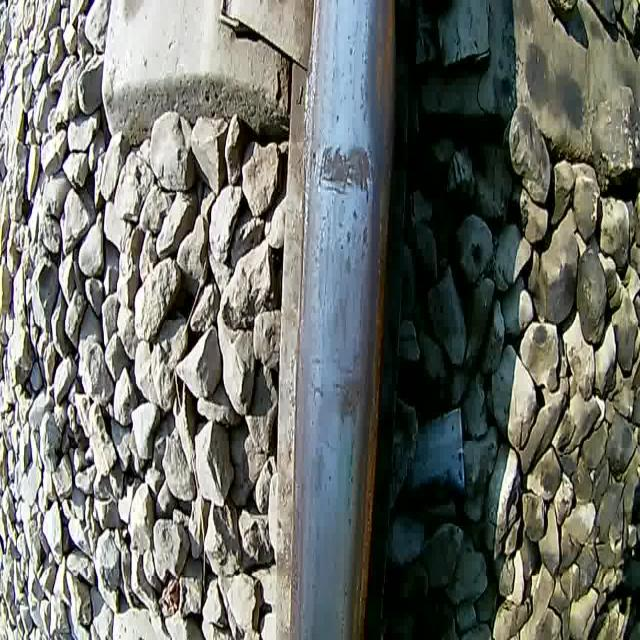Squats: (309, 132, 382, 211), (334, 347, 368, 434)
